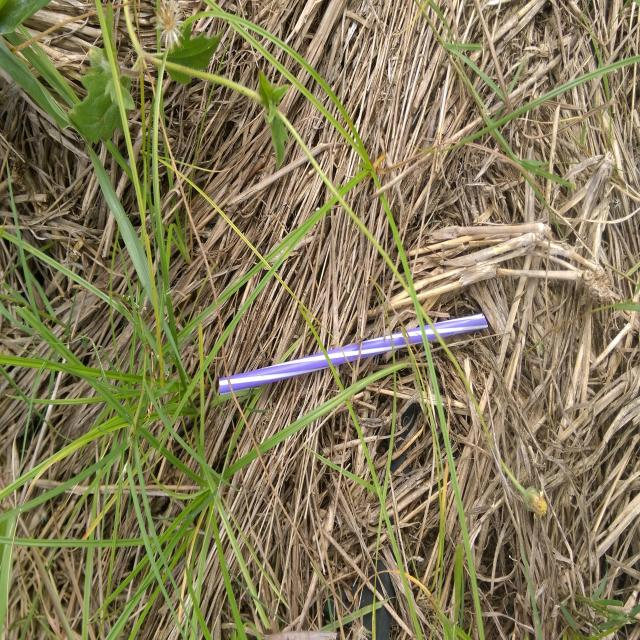Plastic straw: (219, 313, 488, 396)
